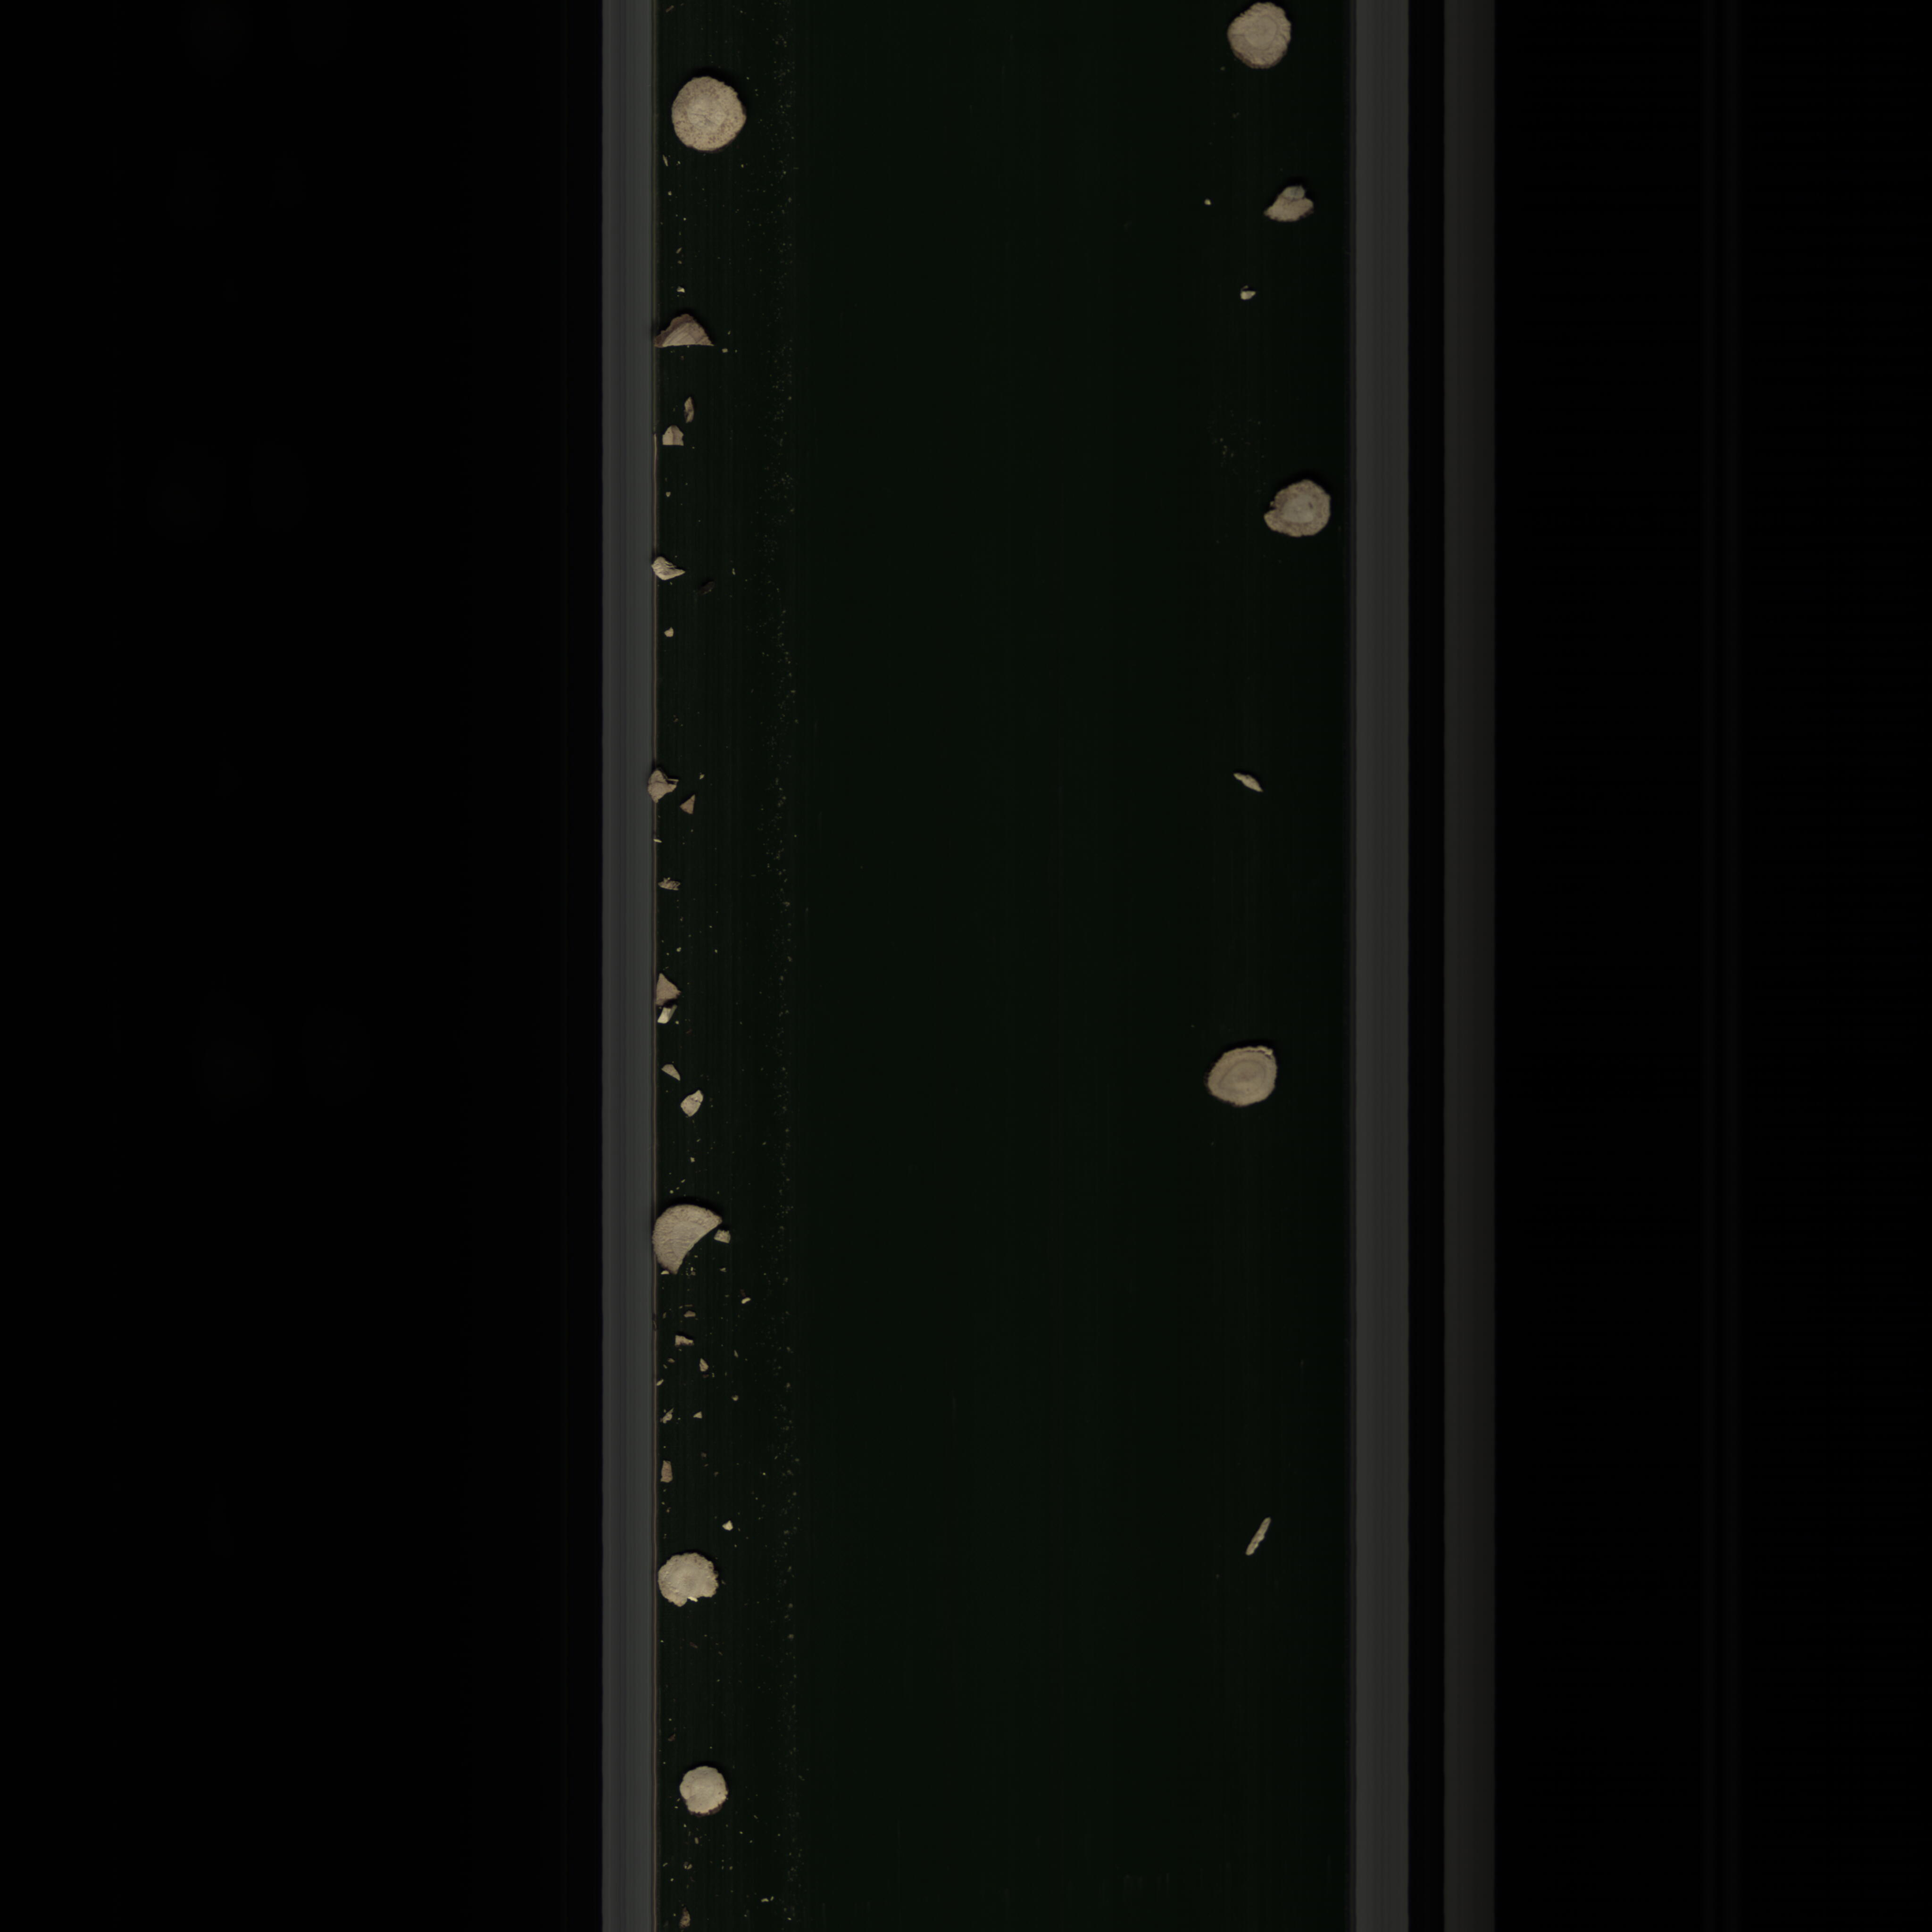debris: (648, 1198, 732, 1279), (658, 1546, 724, 1614), (658, 304, 731, 364), (1263, 186, 1325, 230), (649, 973, 694, 1028), (1246, 1511, 1274, 1560), (658, 552, 695, 589), (642, 766, 676, 805), (1235, 764, 1270, 798), (655, 425, 695, 453), (681, 1088, 715, 1120), (1230, 274, 1260, 304), (658, 1060, 692, 1083)
distortion: (1253, 472, 1338, 543)
